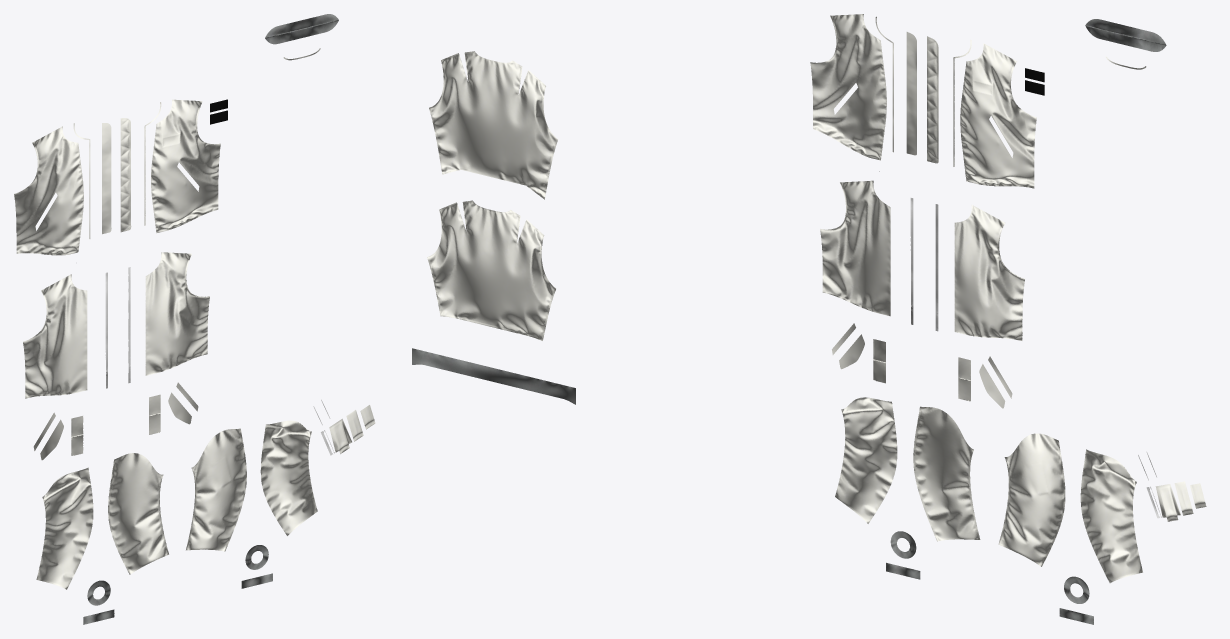
File: MA-1_animation.glb
3 renders of one model, left to right at view 1: azimuth 30°, elevation 25°; view 2: azimuth 150°, elevation 25°; view 3: azimuth 330°, elevation 25°, orthographic. The views are drawn at different scales.
Parts seen in each view (by area): view 1: main; view 2: main; view 3: main.
Boxes of the visible parts, x1,y1,x2,y2 form: main: [14, 14, 375, 624]; main: [412, 51, 575, 404]; main: [810, 14, 1206, 624].
Bounding box in the file's own units: 0.5052 × 0.723 × 0.000999.
Materials: 1 (1 with a texture image).
